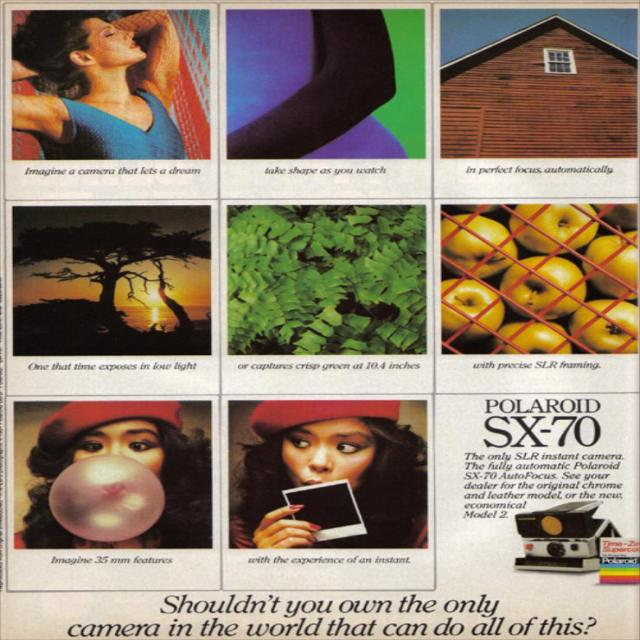Healty Apple: (438, 200, 638, 354), (499, 255, 585, 318)
